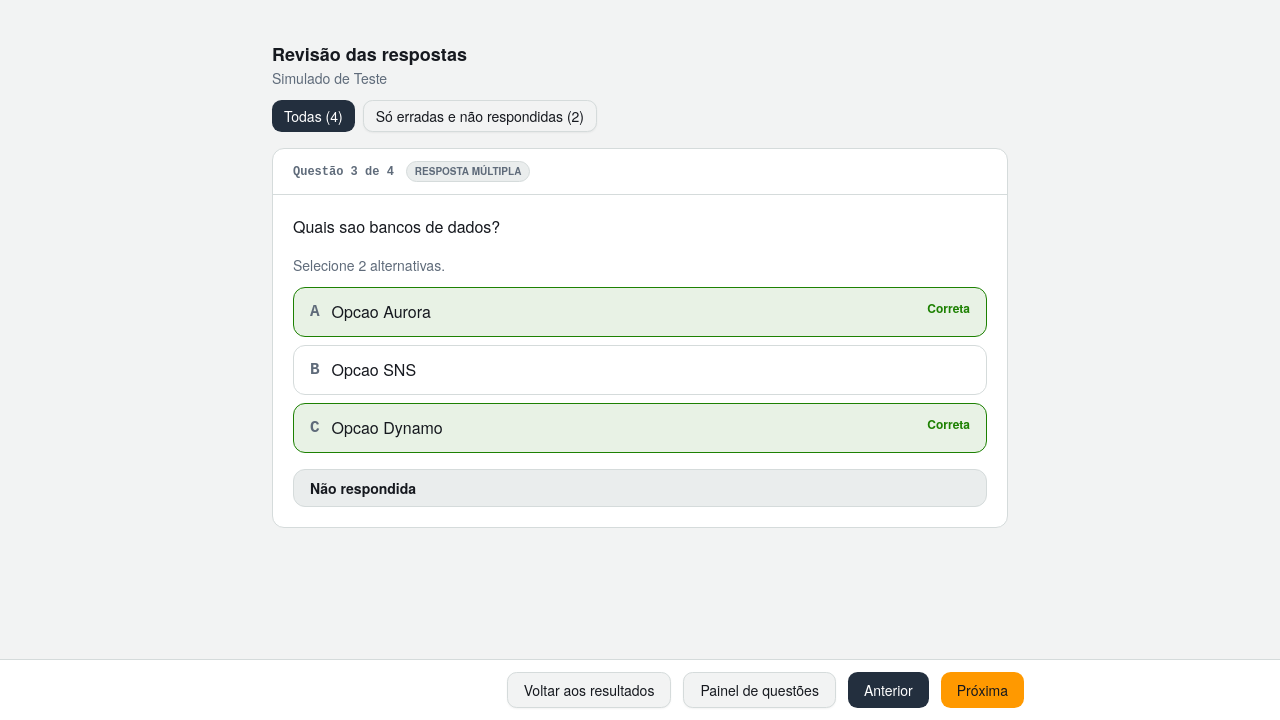
Test: ExamReview filtro › desabilita Proxima na ultima questao do filtro mesmo havendo corretas depois
Click the button "Só erradas e não respondidas (2)". click: (480, 116)
box: x1=363 y1=100 x2=597 y2=132
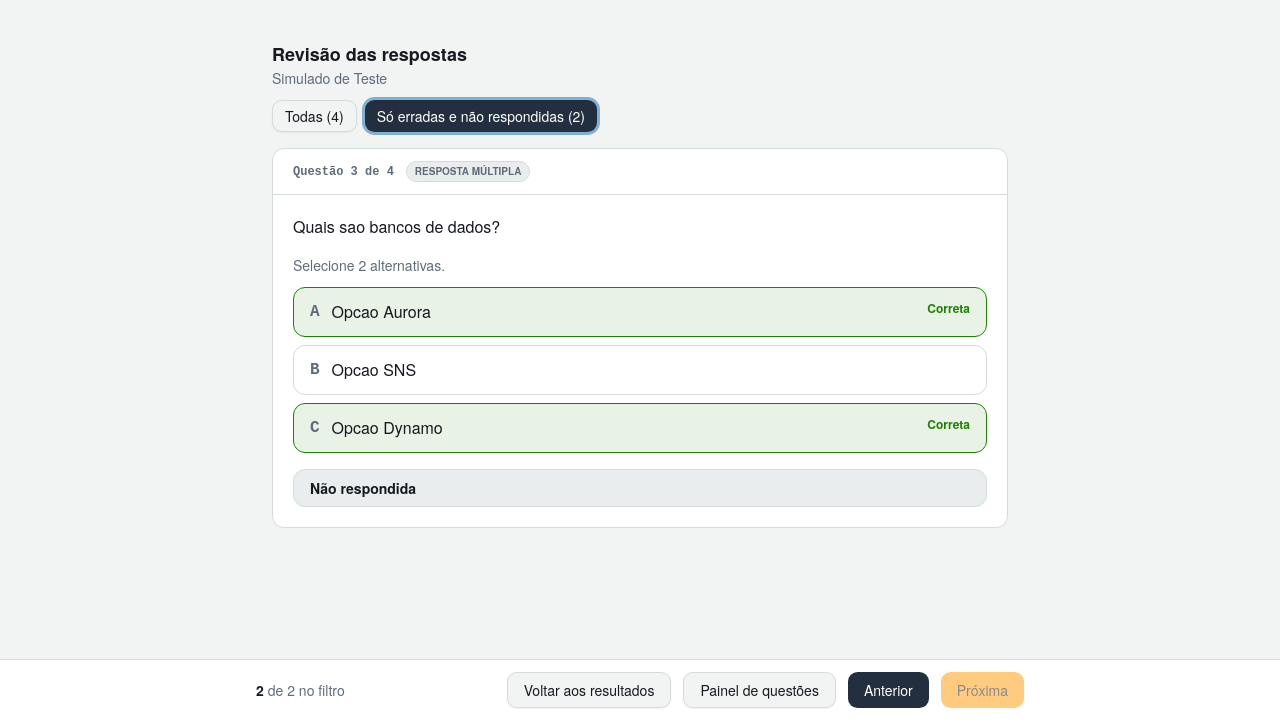
Check: the button "Próxima" is disabled, box x1=941 y1=672 x2=1024 y2=708
